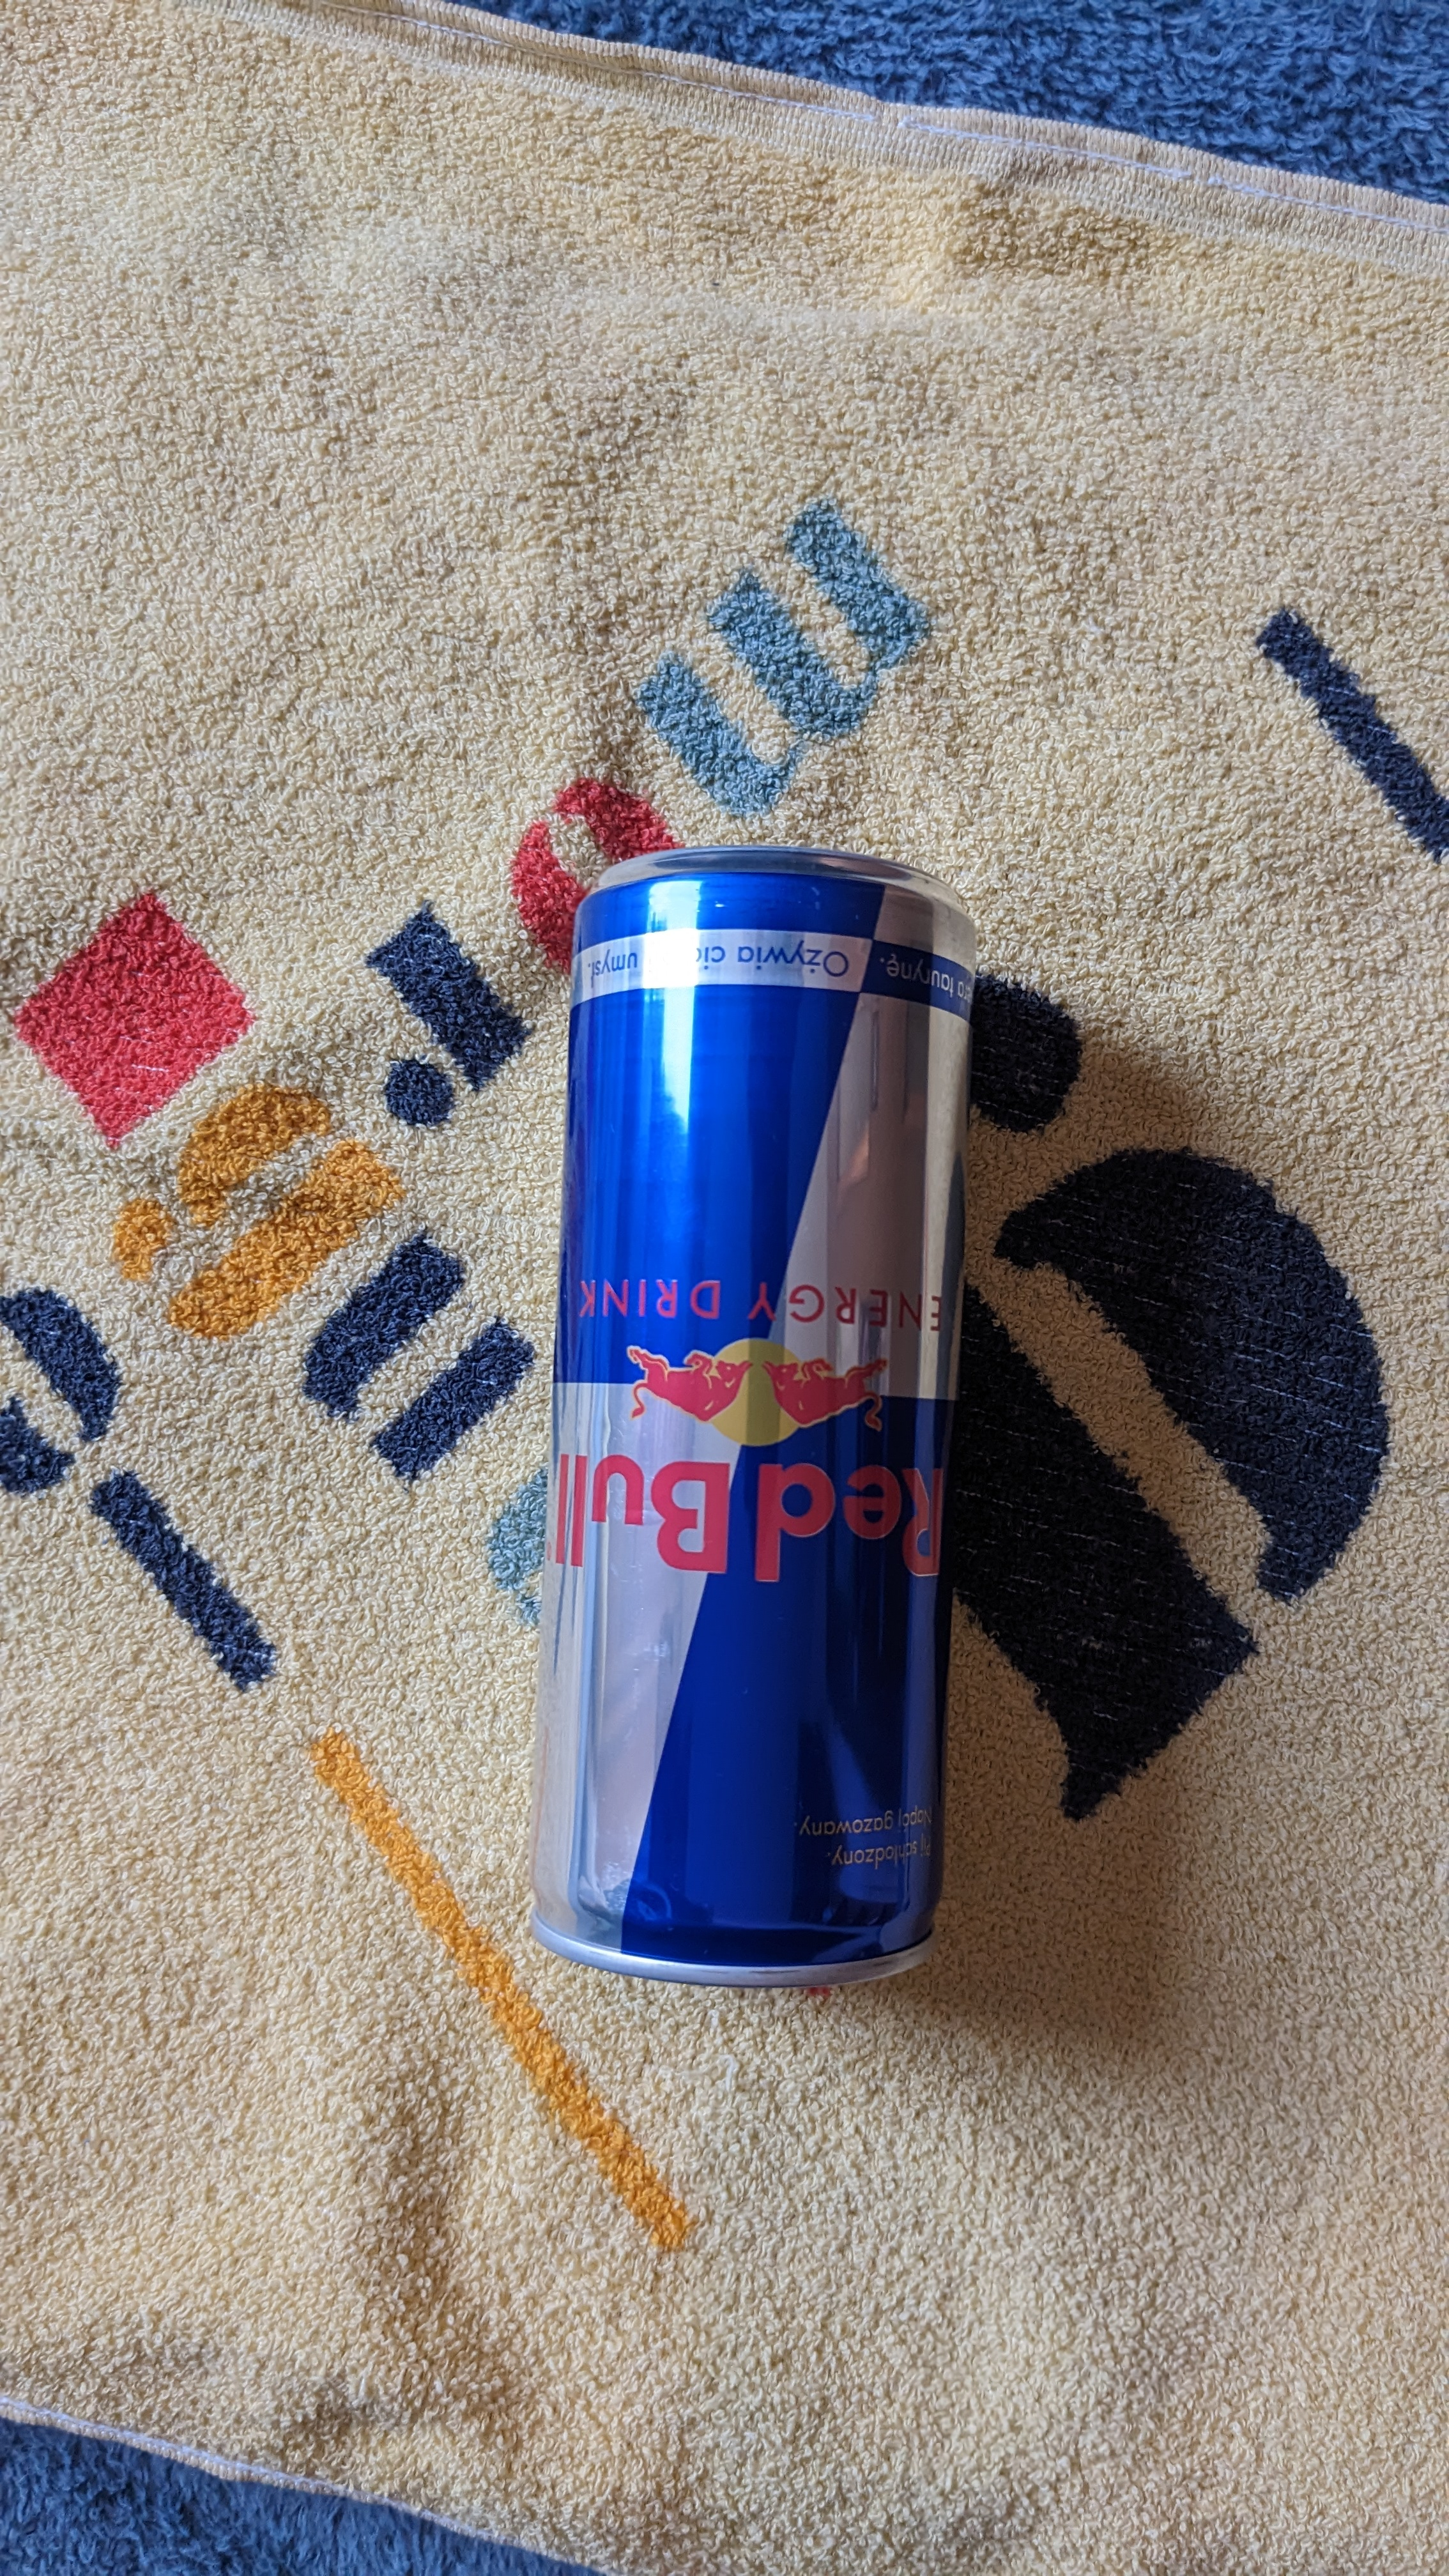red-bull: (529, 807, 1049, 2049)
